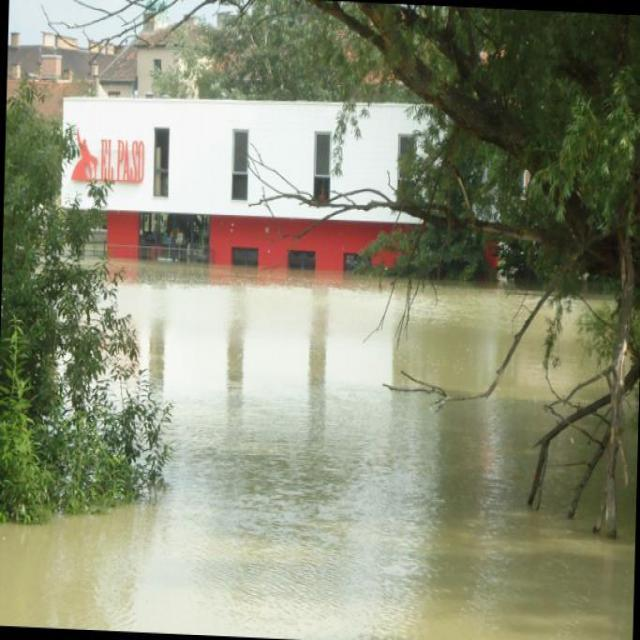flood: (36, 257, 639, 640)
